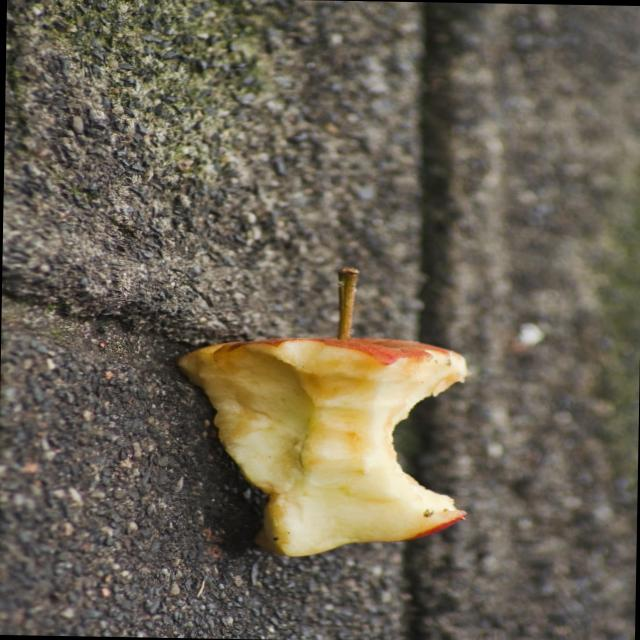apple_fruit: (121, 244, 479, 594)
